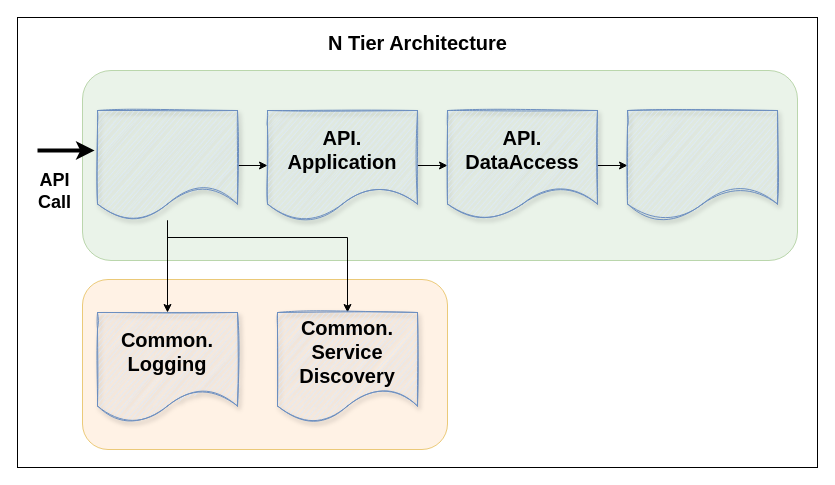
This 835x485 diagram has some shape labels left out. The centre of each missing label's shape, as x and y in pixels:
"API. Core" goes at point 703,167.
"API. WebApi" goes at point 168,167.
